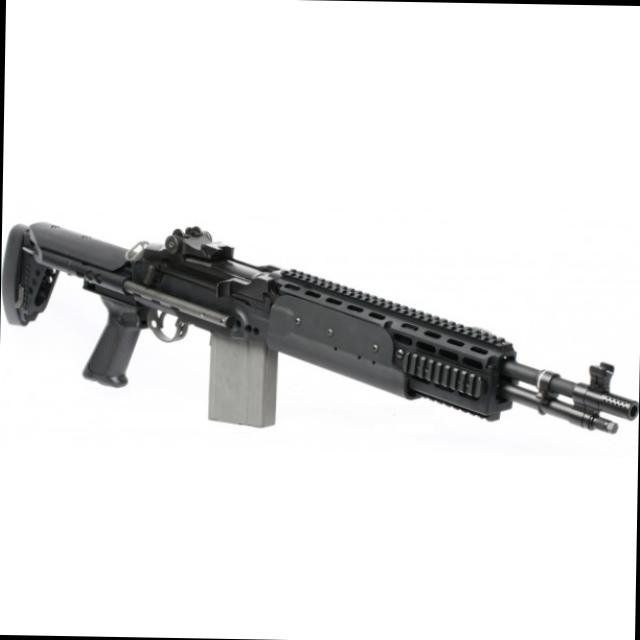Gun: (0, 184, 640, 543)
